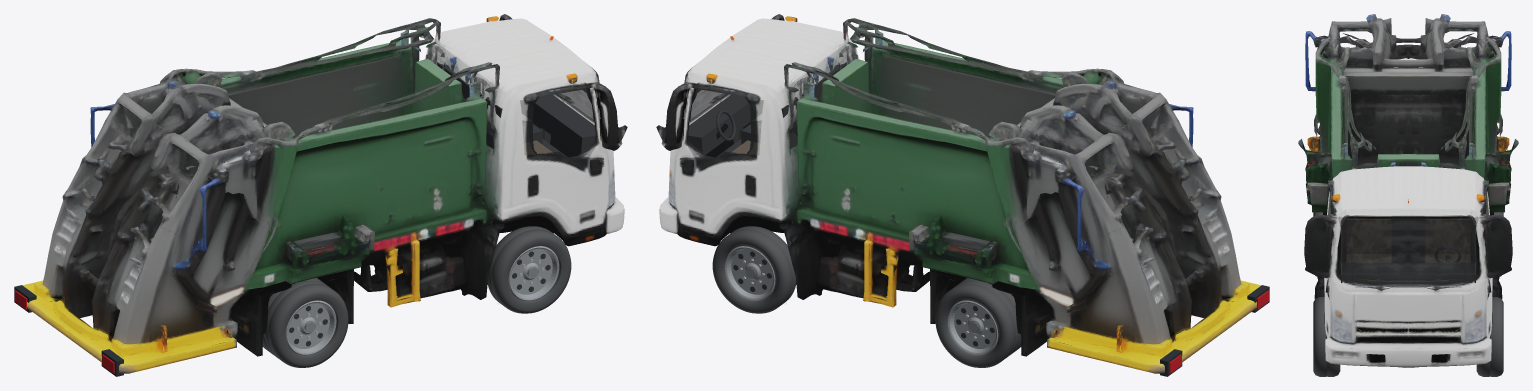
3 views of the same model, side by side, from view 1: azimuth 30°, elevation 25°; view 2: azimuth 150°, elevation 25°; view 3: azimuth 270°, elevation 25° (orthographic). The views are drawn at different scales.
Parts seen in each view (by area): view 1: hopper_side_right, rear_loading_mechanism, body_shell, hopper_side_left, door_right, cab_roof, wheel_rear_right, wheel_front_right, hopper_inner, loader_safety_step, interior_dashboard, glass_right (+2 smaller); view 2: hopper_side_left, rear_loading_mechanism, body_shell, hopper_side_right, door_left, cab_roof, wheel_rear_left, wheel_front_left, hopper_inner, loader_safety_step, interior_dashboard, glass_left (+2 smaller); view 3: body_shell, hopper_inner, windshield, cab_roof, hopper_side_right, hopper_side_left, rear_loading_mechanism, interior_dashboard, interior_bulkhead, interior_seat_right_back, interior_seat_left_back, door_right (+8 smaller).
Part boxes in pixels (x1=…): hopper_side_right: x1=220, y1=68, x2=499, y2=301; rear_loading_mechanism: x1=42, y1=90, x2=233, y2=363; body_shell: x1=163, y1=18, x2=627, y2=356; hopper_side_left: x1=137, y1=22, x2=417, y2=197; door_right: x1=487, y1=72, x2=616, y2=242; cab_roof: x1=422, y1=16, x2=598, y2=98; wheel_rear_right: x1=262, y1=278, x2=348, y2=367; wheel_front_right: x1=487, y1=226, x2=571, y2=313; hopper_inner: x1=165, y1=36, x2=476, y2=167; loader_safety_step: x1=23, y1=280, x2=170, y2=373; interior_dashboard: x1=521, y1=95, x2=599, y2=154; glass_right: x1=520, y1=82, x2=611, y2=155; hopper_side_left: x1=784, y1=68, x2=1063, y2=301; rear_loading_mechanism: x1=1050, y1=90, x2=1241, y2=363; body_shell: x1=656, y1=18, x2=1120, y2=356; hopper_side_right: x1=866, y1=22, x2=1146, y2=197; door_left: x1=667, y1=72, x2=796, y2=242; cab_roof: x1=685, y1=16, x2=861, y2=98; wheel_rear_left: x1=935, y1=278, x2=1021, y2=367; wheel_front_left: x1=712, y1=226, x2=796, y2=313; hopper_inner: x1=807, y1=36, x2=1118, y2=167; loader_safety_step: x1=1113, y1=280, x2=1260, y2=373; interior_dashboard: x1=684, y1=95, x2=763, y2=154; glass_left: x1=672, y1=82, x2=763, y2=155; body_shell: x1=1305, y1=14, x2=1511, y2=367; hopper_inner: x1=1351, y1=36, x2=1465, y2=167; windshield: x1=1338, y1=216, x2=1478, y2=283; cab_roof: x1=1330, y1=141, x2=1486, y2=218; hopper_side_right: x1=1298, y1=28, x2=1351, y2=281; hopper_side_left: x1=1465, y1=28, x2=1518, y2=281; rear_loading_mechanism: x1=1305, y1=18, x2=1511, y2=152; interior_dashboard: x1=1341, y1=262, x2=1475, y2=283; interior_bulkhead: x1=1341, y1=217, x2=1475, y2=262; interior_seat_right_back: x1=1346, y1=218, x2=1391, y2=253; interior_seat_left_back: x1=1425, y1=218, x2=1470, y2=253; door_right: x1=1304, y1=177, x2=1344, y2=338.
Size of the model in its own units: 8.21 by 3.77 by 3.29.
12 materials, 2 textured.
